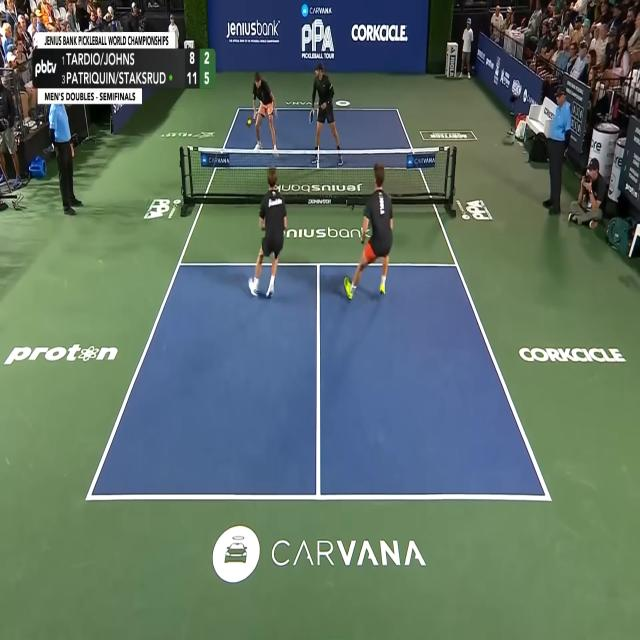ball: (247, 119, 252, 126)
